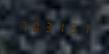five: (66, 20, 77, 34)
one: (54, 19, 65, 34), (78, 20, 89, 35)
seven: (17, 18, 28, 33)
three: (42, 19, 53, 33)
zero: (29, 19, 40, 33)
